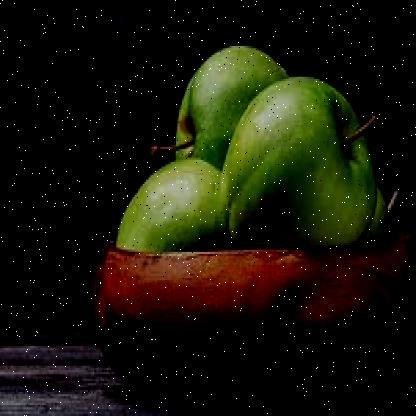apple: (230, 92, 378, 258), (163, 43, 289, 168), (116, 154, 224, 258)
